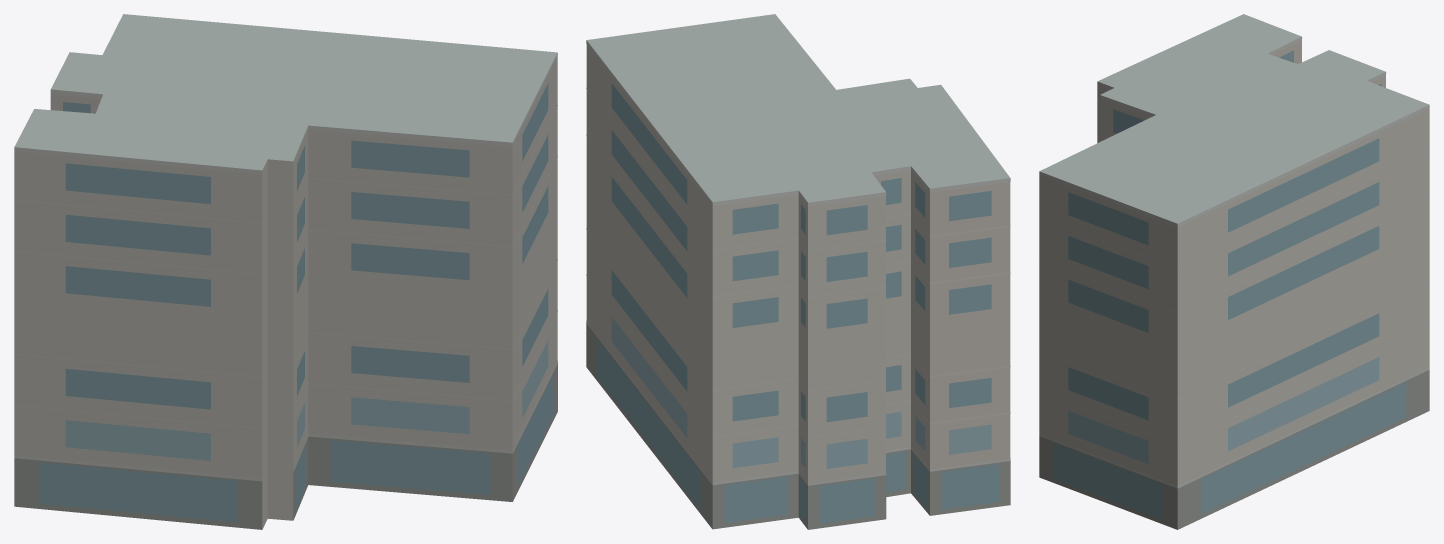
The model's file is survey-upis-32959548.glb.
3 views of the same model, side by side, from view 1: azimuth 30°, elevation 25°; view 2: azimuth 150°, elevation 25°; view 3: azimuth 270°, elevation 25° (orthographic). The views are drawn at different scales.
Parts seen in each view (by area): view 1: survey-upis-32959548.tmp; view 2: survey-upis-32959548.tmp; view 3: survey-upis-32959548.tmp.
Part boxes in pixels (x1,y1,x2,y2): survey-upis-32959548.tmp: [14, 14, 557, 529]; survey-upis-32959548.tmp: [586, 14, 1010, 529]; survey-upis-32959548.tmp: [1039, 14, 1429, 529].
Bounding box in the file's own units: 29.99 × 20.4 × 23.59.
